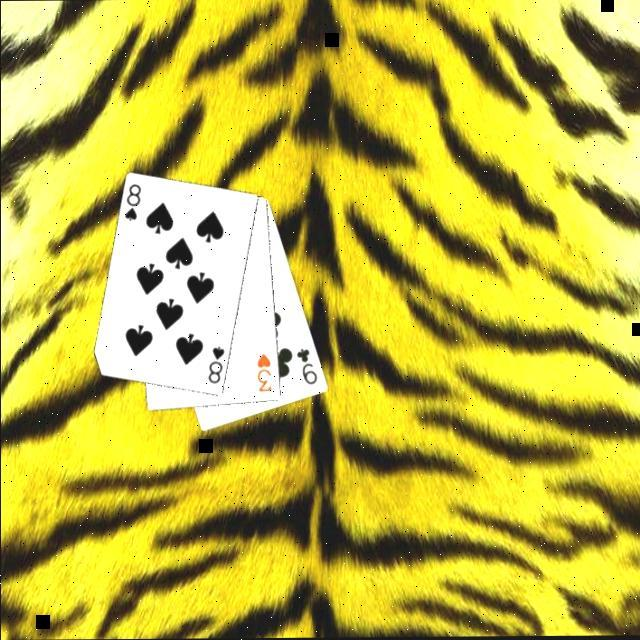3H: (252, 349, 272, 394)
8S: (203, 342, 226, 386), (120, 178, 142, 222)
9C: (292, 344, 318, 386)
